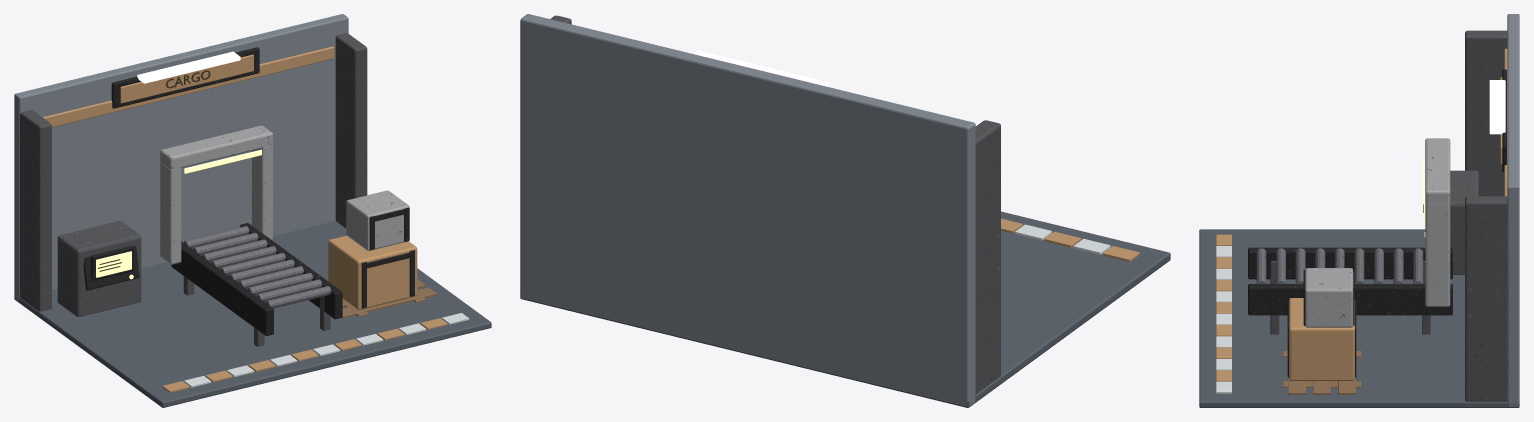
Rendered from department_cargo_starter.glb.
The picture shows the model from 3 angles, left to right: view 1: azimuth 30°, elevation 25°; view 2: azimuth 150°, elevation 25°; view 3: azimuth 270°, elevation 25°; orthographic projection. The views are drawn at different scales.
Visible parts, largest first — view 1: DEPT_Cargo__Back_Wall, DEPT_Cargo__Floor, DEPT_Cargo__Left_Pilaster, DEPT_Cargo__Right_Pilaster, DEPT_Cargo__Cargo_Console_Body, DEPT_Cargo__Crate_Large_Body, DEPT_Cargo__Conveyor_Frame_Left, DEPT_Cargo__Crate_Small_Body, DEPT_Cargo__Scanner_Top, DEPT_Cargo__Back_Wall_Accent, DEPT_Cargo__Scanner_Post_-0.64, DEPT_Cargo__Department_Sign_Inset (+19 smaller); view 2: DEPT_Cargo__Back_Wall, DEPT_Cargo__Floor, DEPT_Cargo__Left_Pilaster, DEPT_Cargo__Ceiling_Light; view 3: DEPT_Cargo__Floor, DEPT_Cargo__Right_Pilaster, DEPT_Cargo__Left_Pilaster, DEPT_Cargo__Back_Wall, DEPT_Cargo__Conveyor_Frame_Right, DEPT_Cargo__Crate_Large_Body, DEPT_Cargo__Conveyor_Frame_Left, DEPT_Cargo__Crate_Small_Body, DEPT_Cargo__Scanner_Post_0.64, DEPT_Cargo__Cargo_Console_Body, DEPT_Cargo__Scanner_Top, DEPT_Cargo__Ceiling_Light (+9 smaller).
Part boxes in pixels (left/top/right/bottom): DEPT_Cargo__Back_Wall: left=14, top=14, right=348, bottom=301; DEPT_Cargo__Floor: left=14, top=221, right=491, bottom=407; DEPT_Cargo__Left_Pilaster: left=20, top=110, right=51, bottom=311; DEPT_Cargo__Right_Pilaster: left=335, top=33, right=367, bottom=228; DEPT_Cargo__Cargo_Console_Body: left=57, top=221, right=141, bottom=316; DEPT_Cargo__Crate_Large_Body: left=328, top=235, right=417, bottom=309; DEPT_Cargo__Conveyor_Frame_Left: left=171, top=241, right=273, bottom=335; DEPT_Cargo__Crate_Small_Body: left=346, top=190, right=409, bottom=250; DEPT_Cargo__Scanner_Top: left=160, top=125, right=272, bottom=169; DEPT_Cargo__Back_Wall_Accent: left=42, top=46, right=334, bottom=127; DEPT_Cargo__Scanner_Post_-0.64: left=160, top=162, right=181, bottom=264; DEPT_Cargo__Department_Sign_Inset: left=120, top=54, right=253, bottom=103; DEPT_Cargo__Back_Wall: left=520, top=14, right=975, bottom=406; DEPT_Cargo__Floor: left=520, top=211, right=1170, bottom=407; DEPT_Cargo__Left_Pilaster: left=975, top=120, right=1000, bottom=394; DEPT_Cargo__Ceiling_Light: left=693, top=50, right=828, bottom=86; DEPT_Cargo__Floor: left=1199, top=229, right=1519, bottom=407; DEPT_Cargo__Right_Pilaster: left=1465, top=196, right=1507, bottom=401; DEPT_Cargo__Left_Pilaster: left=1465, top=30, right=1507, bottom=196; DEPT_Cargo__Back_Wall: left=1507, top=14, right=1519, bottom=406; DEPT_Cargo__Conveyor_Frame_Right: left=1248, top=284, right=1452, bottom=315; DEPT_Cargo__Crate_Large_Body: left=1289, top=298, right=1354, bottom=380; DEPT_Cargo__Conveyor_Frame_Left: left=1248, top=247, right=1452, bottom=279; DEPT_Cargo__Crate_Small_Body: left=1305, top=268, right=1353, bottom=327; DEPT_Cargo__Scanner_Post_0.64: left=1425, top=203, right=1450, bottom=306; DEPT_Cargo__Cargo_Console_Body: left=1450, top=170, right=1478, bottom=274; DEPT_Cargo__Scanner_Top: left=1425, top=138, right=1450, bottom=204; DEPT_Cargo__Ceiling_Light: left=1489, top=80, right=1505, bottom=134.
Bounding box in the file's own units: 4.6 × 2.75 × 3.6.
Materials: 12 (4 with a texture image).
